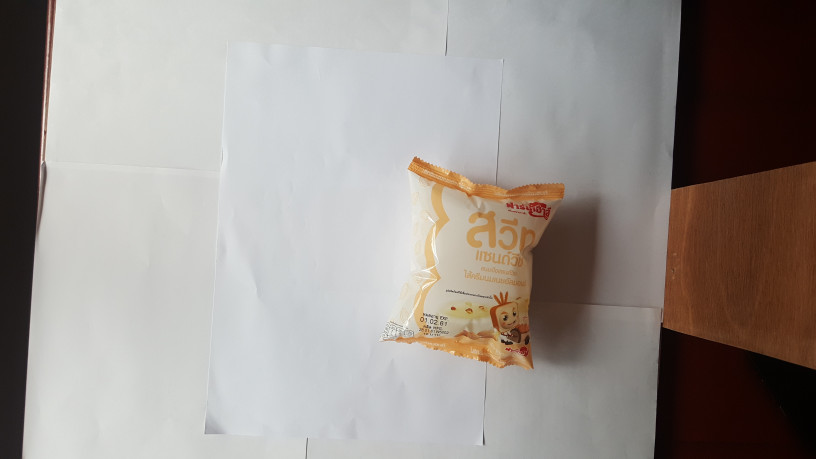farmhouse-sweetsandwich-almond: (376, 152, 570, 372)
